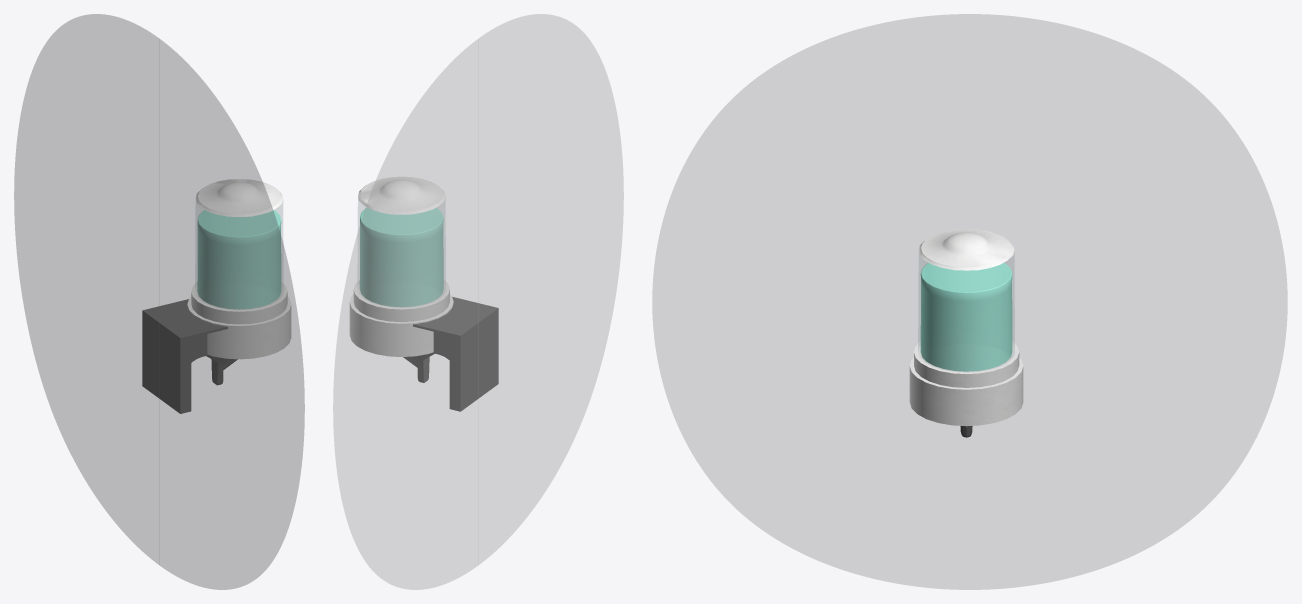
The picture shows the model from 3 angles, left to right: view 1: azimuth 30°, elevation 25°; view 2: azimuth 150°, elevation 25°; view 3: azimuth 270°, elevation 25°; orthographic projection. The views are drawn at different scales.
Visible parts, largest first — view 1: Plane, soap, Shower_Gel_Dispenser___KEUCO_1, Shower_Gel_Dispenser___KEUCO_1_1, glass; view 2: Plane, soap, Shower_Gel_Dispenser___KEUCO_1, Shower_Gel_Dispenser___KEUCO_1_1, glass; view 3: Plane, glass, Shower_Gel_Dispenser___KEUCO_1, soap.
Boxes of the visible parts, bbox=[...] form: Plane: bbox=[14, 14, 304, 589]; soap: bbox=[197, 210, 281, 309]; Shower_Gel_Dispenser___KEUCO_1: bbox=[187, 179, 291, 359]; Shower_Gel_Dispenser___KEUCO_1_1: bbox=[142, 299, 237, 413]; glass: bbox=[195, 201, 283, 289]; Plane: bbox=[333, 14, 623, 589]; soap: bbox=[359, 207, 443, 307]; Shower_Gel_Dispenser___KEUCO_1: bbox=[349, 176, 453, 356]; Shower_Gel_Dispenser___KEUCO_1_1: bbox=[403, 297, 498, 411]; glass: bbox=[358, 198, 445, 286]; Plane: bbox=[652, 14, 1287, 589]; glass: bbox=[918, 251, 1014, 371]; Shower_Gel_Dispenser___KEUCO_1: bbox=[909, 229, 1023, 426]; soap: bbox=[920, 263, 1012, 371].
Size of the model in its own units: 0.1811 by 0.7393 by 0.7393.
Materials: 5 (1 with a texture image).
